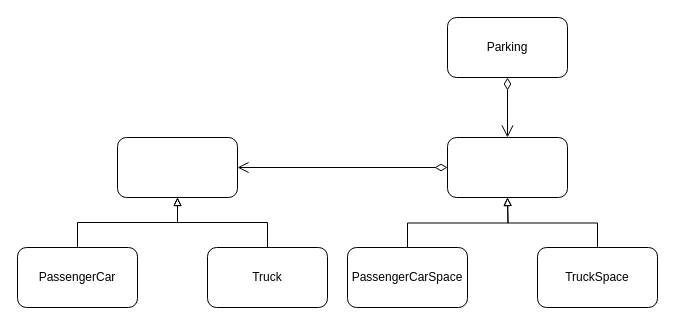
This 675x325 diagram has some shape labels left out. The shapes that lost their labels are listed below. From the top down, each one's centre as x and y in pixels, then its label:
At [177,167]: "AbstractCar".
At [507,167]: "ParkingSpace".
